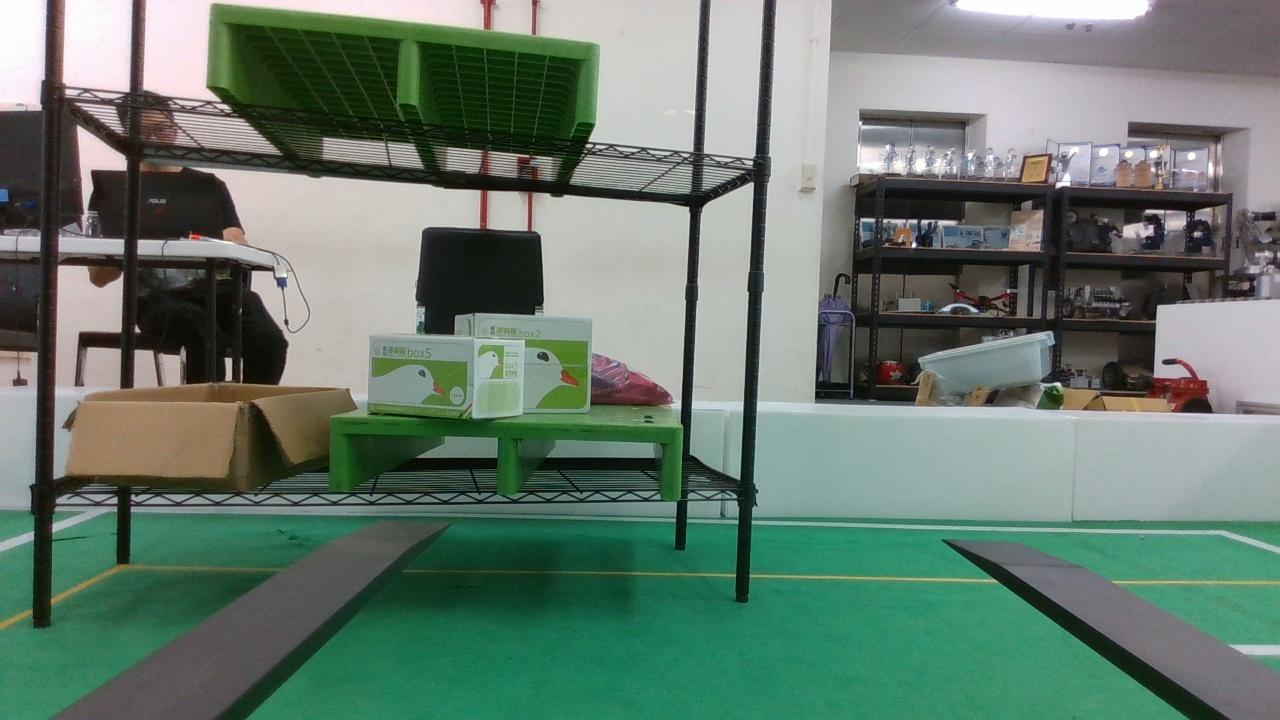Pallet: (205, 3, 607, 134), (327, 411, 689, 504)
